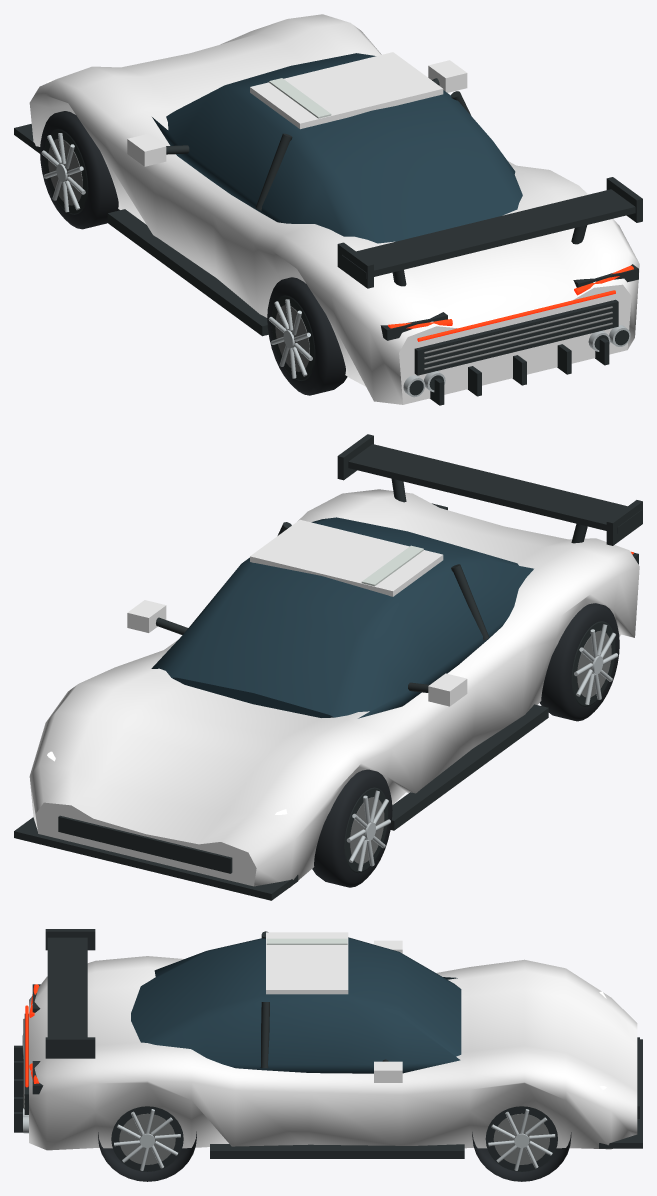
File: every-run-gt.glb
3 renders of one model, top to bottom at view 1: azimuth 30°, elevation 25°; view 2: azimuth 150°, elevation 25°; view 3: azimuth 270°, elevation 25°, orthographic. The views are drawn at different scales.
Parts seen in each view (by area): view 1: FishFighterNS 587 web, Wheel FishFighterNS 587 web, Wheel FishFighterNS 587.001 web; view 2: FishFighterNS 587 web, Wheel FishFighterNS 587.001 web, Wheel FishFighterNS 587 web; view 3: FishFighterNS 587 web, Wheel FishFighterNS 587.002 web, Wheel FishFighterNS 587.003 web.
Part boxes in pixels (x1,y1,x2,y2): FishFighterNS 587 web: [14, 14, 642, 405]; Wheel FishFighterNS 587 web: [267, 277, 347, 395]; Wheel FishFighterNS 587.001 web: [40, 111, 119, 229]; FishFighterNS 587 web: [14, 434, 642, 900]; Wheel FishFighterNS 587.001 web: [312, 769, 392, 887]; Wheel FishFighterNS 587 web: [539, 603, 619, 721]; FishFighterNS 587 web: [14, 929, 642, 1158]; Wheel FishFighterNS 587.002 web: [98, 1106, 196, 1181]; Wheel FishFighterNS 587.003 web: [472, 1106, 571, 1181].
Bounding box in the file's own units: 2.23 × 1.31 × 4.57.
